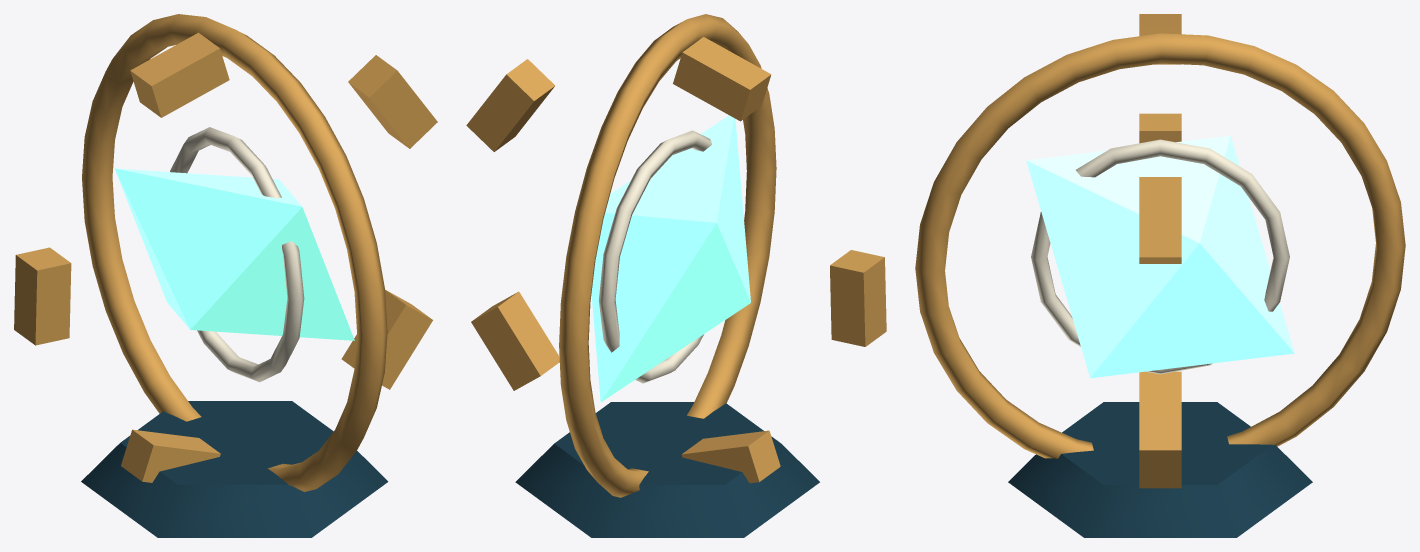
The model's file is relic-07.glb.
3 renders of one model, left to right at view 1: azimuth 30°, elevation 25°; view 2: azimuth 150°, elevation 25°; view 3: azimuth 270°, elevation 25°, orthographic.
Parts seen in each view (by area): view 1: aged-brass-merged, aether-glass-merged, deep-basalt-merged, chalk-sail-merged; view 2: aged-brass-merged, aether-glass-merged, deep-basalt-merged, chalk-sail-merged; view 3: aged-brass-merged, aether-glass-merged, deep-basalt-merged, chalk-sail-merged.
Part boxes in pixels (bbox=[...]): aged-brass-merged: bbox=[14, 14, 437, 491]; aether-glass-merged: bbox=[114, 168, 354, 340]; deep-basalt-merged: bbox=[81, 401, 388, 537]; chalk-sail-merged: bbox=[170, 127, 304, 382]; aged-brass-merged: bbox=[466, 14, 886, 497]; aether-glass-merged: bbox=[591, 115, 750, 402]; deep-basalt-merged: bbox=[515, 402, 819, 537]; chalk-sail-merged: bbox=[598, 130, 711, 383]; aged-brass-merged: bbox=[915, 14, 1405, 488]; aether-glass-merged: bbox=[1026, 135, 1294, 378]; deep-basalt-merged: bbox=[1008, 402, 1312, 537]; chalk-sail-merged: bbox=[1031, 139, 1289, 374].
Size of the model in its own units: 1.3 by 1.39 by 1.38.
